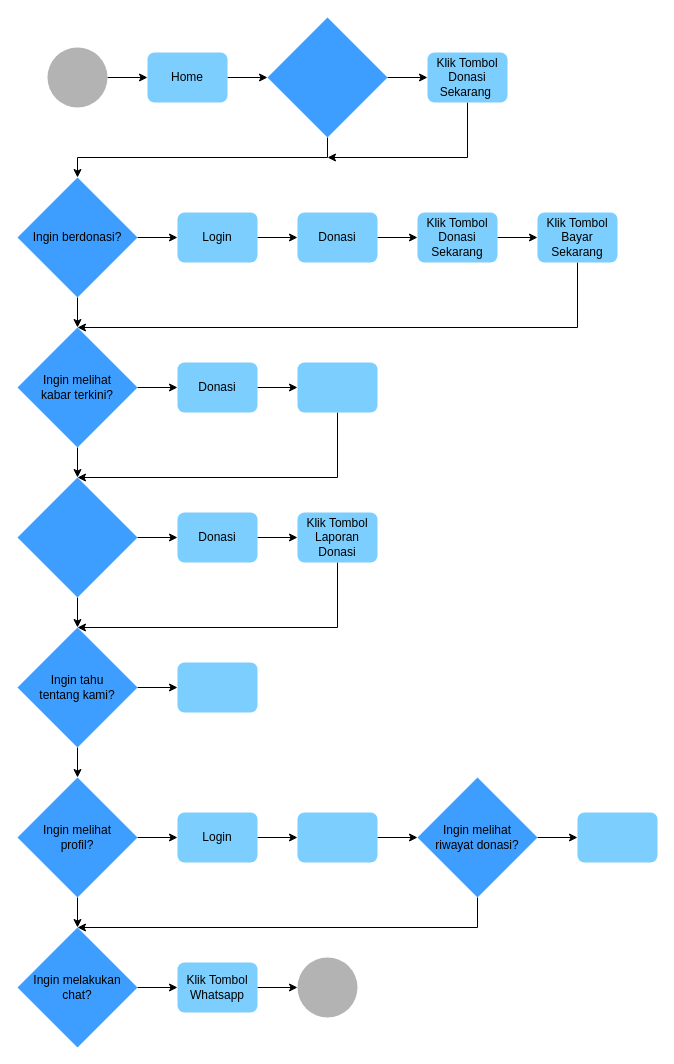
The diagram is 674 pixels wide and 1064 high, and some of its shapes have lost their labels. Here are the shapes that lost their labels. From the top down, the box of each, then its label:
(47, 47, 107, 107): Mulai
(267, 17, 387, 137): Ingin melihat donasi?
(297, 362, 377, 412): Klik Tombol Kabar Terkini
(17, 477, 137, 597): Ingin melihat laporan donasi?
(177, 662, 257, 712): Tentang Kami
(297, 812, 377, 862): Klik logo profil
(577, 812, 657, 862): Klik tombol donasi saya
(297, 957, 357, 1017): Selesai
